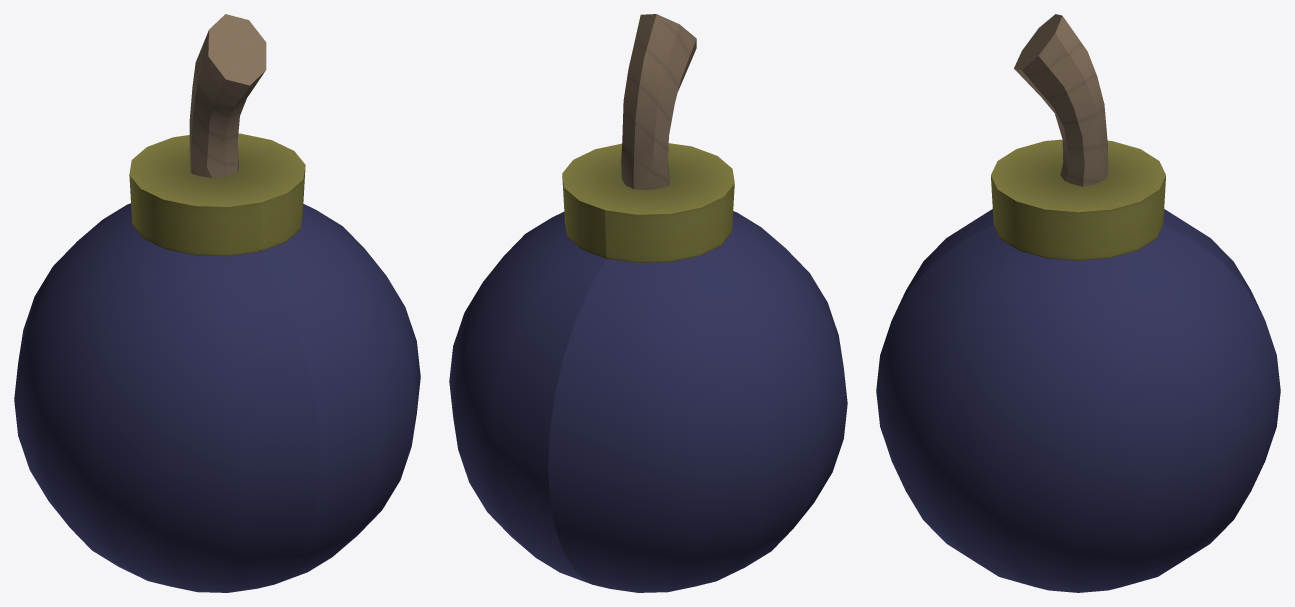
The model's file is LinkNormalBomb.fbx.
3 views of the same model, side by side, from view 1: azimuth 30°, elevation 25°; view 2: azimuth 150°, elevation 25°; view 3: azimuth 270°, elevation 25° (orthographic). The views are drawn at different scales.
Visible parts, largest first — view 1: GamemodelShape; view 2: GamemodelShape; view 3: GamemodelShape.
Part boxes in pixels (left/top/right/bottom): GamemodelShape: left=14, top=14, right=420, bottom=592; GamemodelShape: left=449, top=14, right=847, bottom=592; GamemodelShape: left=876, top=14, right=1280, bottom=592.
Size of the model in its own units: 0.1051 by 0.1601 by 0.1051.
